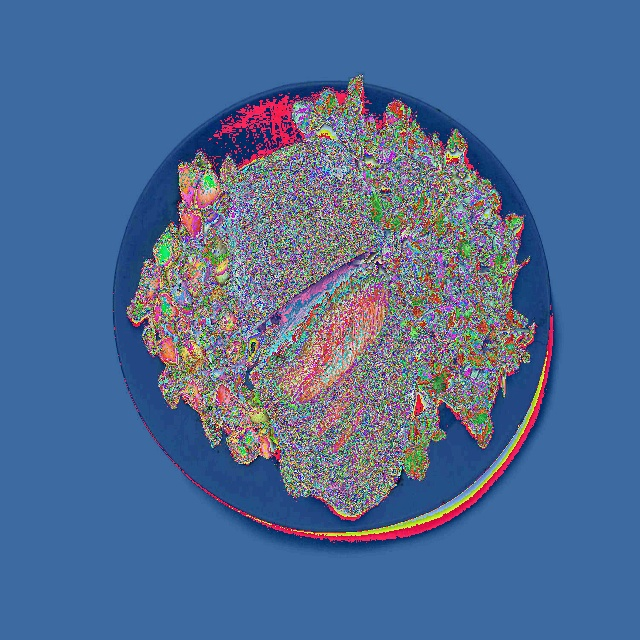background: (127, 75, 535, 515)
